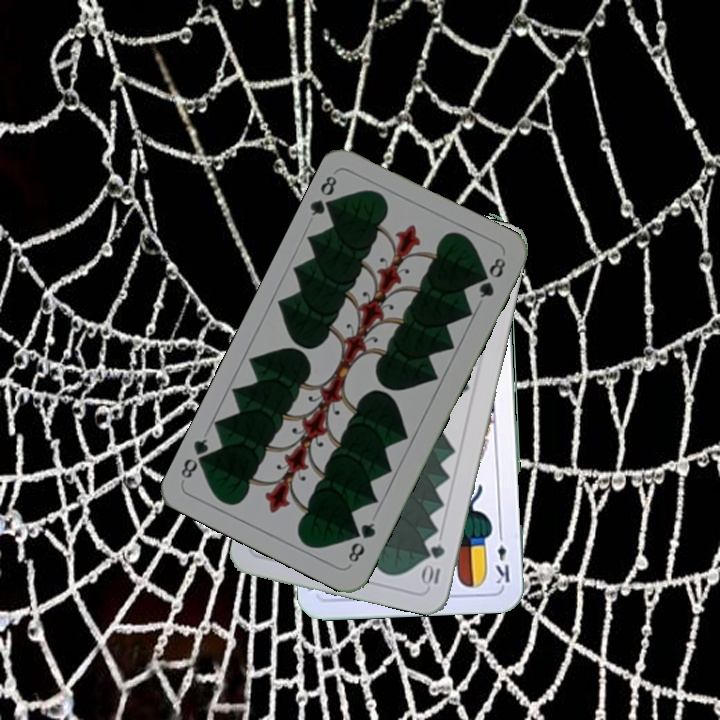EK: (491, 527, 513, 587)
G10: (420, 540, 448, 587)
G8: (306, 171, 341, 219), (344, 518, 378, 566)
